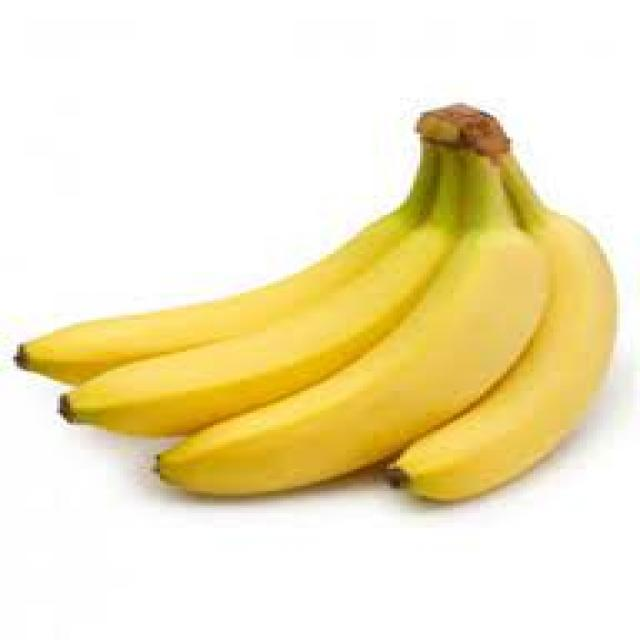banana: (3, 105, 630, 506)
